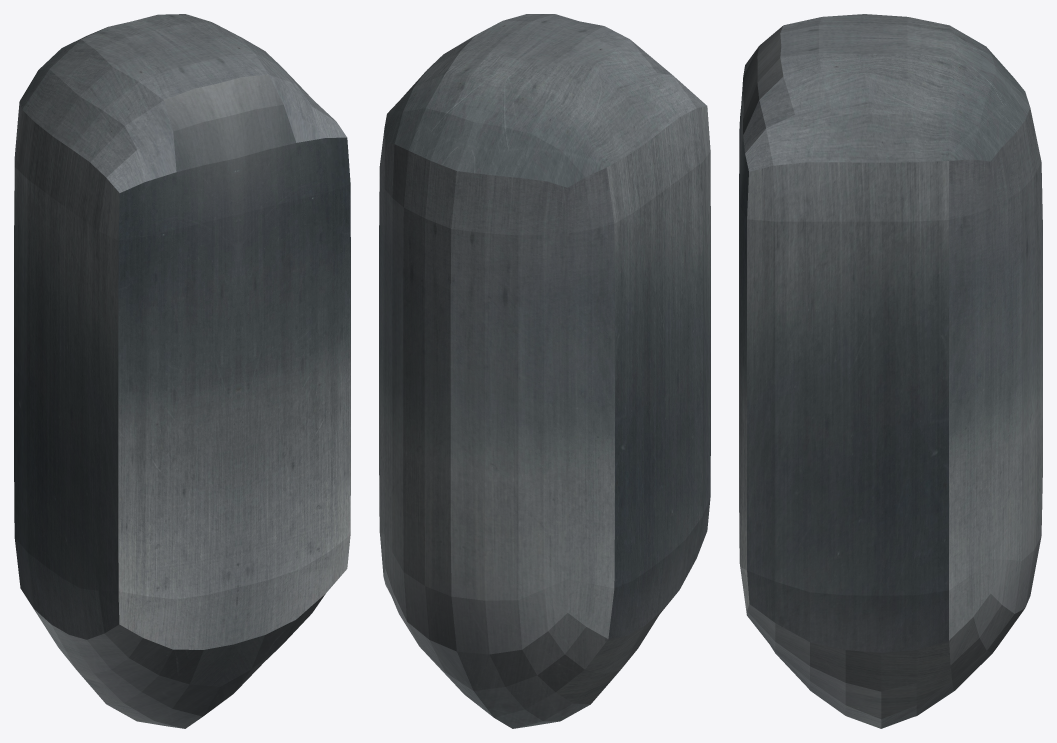
Rendered from Robot2.fbx.
3 renders of one model, left to right at view 1: azimuth 30°, elevation 25°; view 2: azimuth 150°, elevation 25°; view 3: azimuth 270°, elevation 25°, orthographic.
Parts seen in each view (by area): view 1: Robot; view 2: Robot; view 3: Robot.
Part boxes in pixels (<box>): Robot: <box>14,14,350,728</box>; Robot: <box>379,14,710,728</box>; Robot: <box>739,14,1042,728</box>.
Size of the model in its own units: 183 by 490 by 196.
